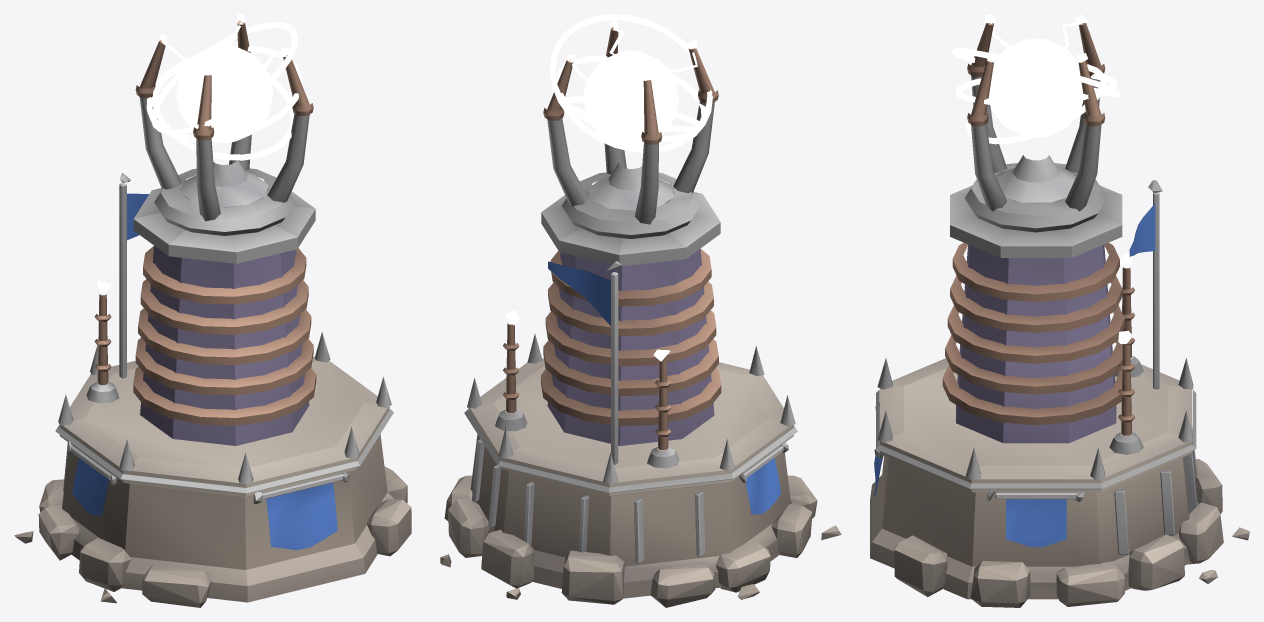
The model's file is spark_1_6.glb.
The picture shows the model from 3 angles, left to right: view 1: azimuth 30°, elevation 25°; view 2: azimuth 150°, elevation 25°; view 3: azimuth 270°, elevation 25°; orthographic projection. The views are drawn at different scales.
Visible parts, largest first — view 1: Tower, Turret; view 2: Tower, Turret; view 3: Tower, Turret.
Part boxes in pixels (bbox=[...]): Tower: bbox=[14, 173, 411, 607]; Turret: bbox=[135, 14, 313, 235]; Tower: bbox=[440, 185, 841, 607]; Turret: bbox=[543, 14, 718, 238]; Tower: bbox=[870, 175, 1249, 607]; Turret: bbox=[951, 14, 1121, 232].
Size of the model in its own units: 3.56 by 5.16 by 3.51.
